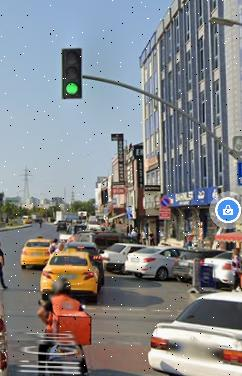greenlight: (61, 47, 81, 101)
nopark: (160, 197, 170, 208)
